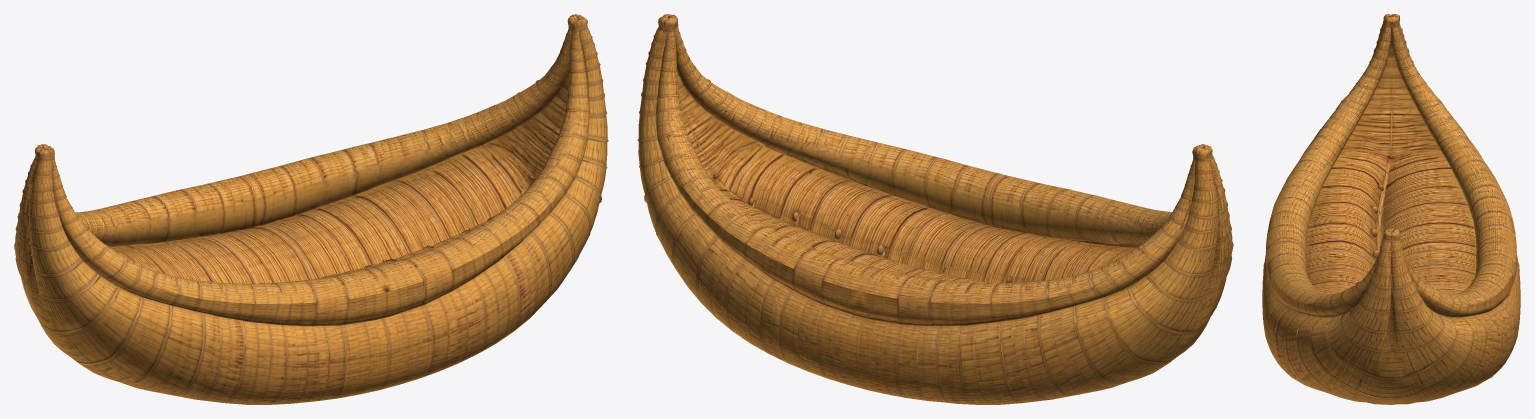
The model's file is obj_balsa.fbx.
3 views of the same model, side by side, from view 1: azimuth 30°, elevation 25°; view 2: azimuth 150°, elevation 25°; view 3: azimuth 270°, elevation 25° (orthographic). The views are drawn at different scales.
Visible parts, largest first — view 1: SM_Balsa_Reconstruida; view 2: SM_Balsa_Reconstruida; view 3: SM_Balsa_Reconstruida.
Part boxes in pixels (bbox=[...]): SM_Balsa_Reconstruida: bbox=[14, 14, 608, 404]; SM_Balsa_Reconstruida: bbox=[637, 14, 1233, 404]; SM_Balsa_Reconstruida: bbox=[1262, 14, 1520, 404].
Bounding box in the file's own units: 1.72 × 0.7948 × 0.8165.
